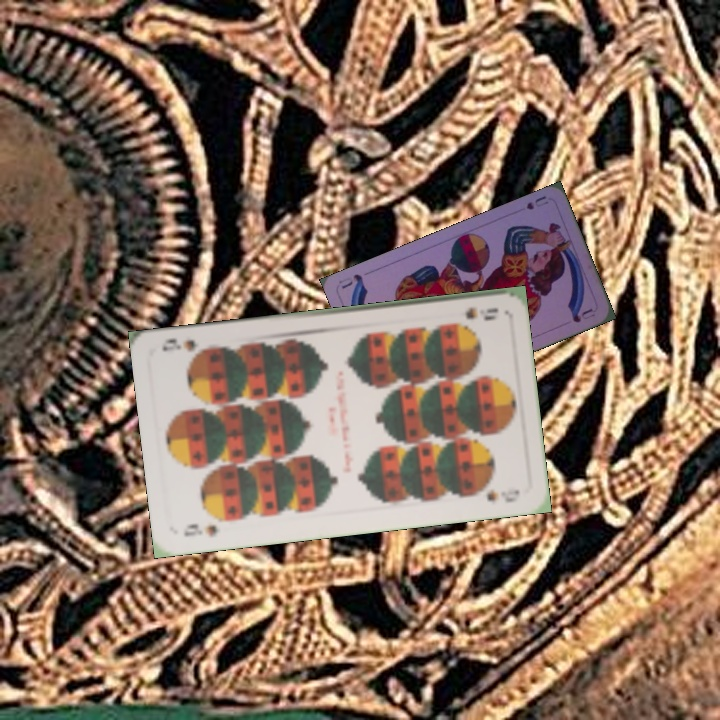S9: (461, 303, 501, 323), (179, 520, 220, 539)
SU: (522, 191, 551, 212)
